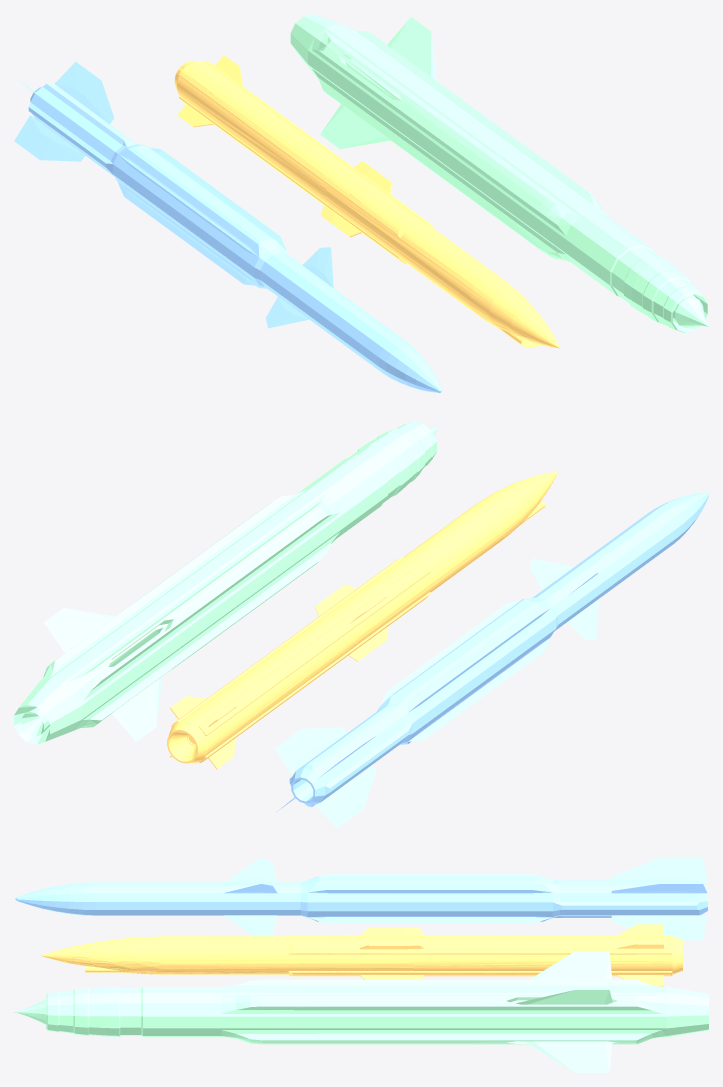
Rendered from Missile_Size_Comparison.glb.
The picture shows the model from 3 angles, top to bottom: view 1: azimuth 30°, elevation 25°; view 2: azimuth 150°, elevation 25°; view 3: azimuth 270°, elevation 25°; orthographic projection. The views are drawn at different scales.
Visible parts, largest first — view 1: Scimitar_AAM36, Scythe_AAM29, Halberd_AAM44; view 2: Scimitar_AAM36, Scythe_AAM29, Halberd_AAM44; view 3: Scimitar_AAM36, Scythe_AAM29, Halberd_AAM44.
Boxes of the visible parts, x1,y1,x2,y2 form: Scimitar_AAM36: (290, 14, 708, 332); Scythe_AAM29: (14, 61, 442, 392); Halberd_AAM44: (174, 55, 560, 348); Scimitar_AAM36: (14, 421, 437, 744); Scythe_AAM29: (275, 492, 708, 828); Halberd_AAM44: (167, 471, 557, 769); Scimitar_AAM36: (14, 951, 708, 1072); Scythe_AAM29: (15, 857, 707, 940); Halberd_AAM44: (40, 924, 682, 986).
Bounding box in the file's own units: 1.8 × 0.4789 × 3.64.
